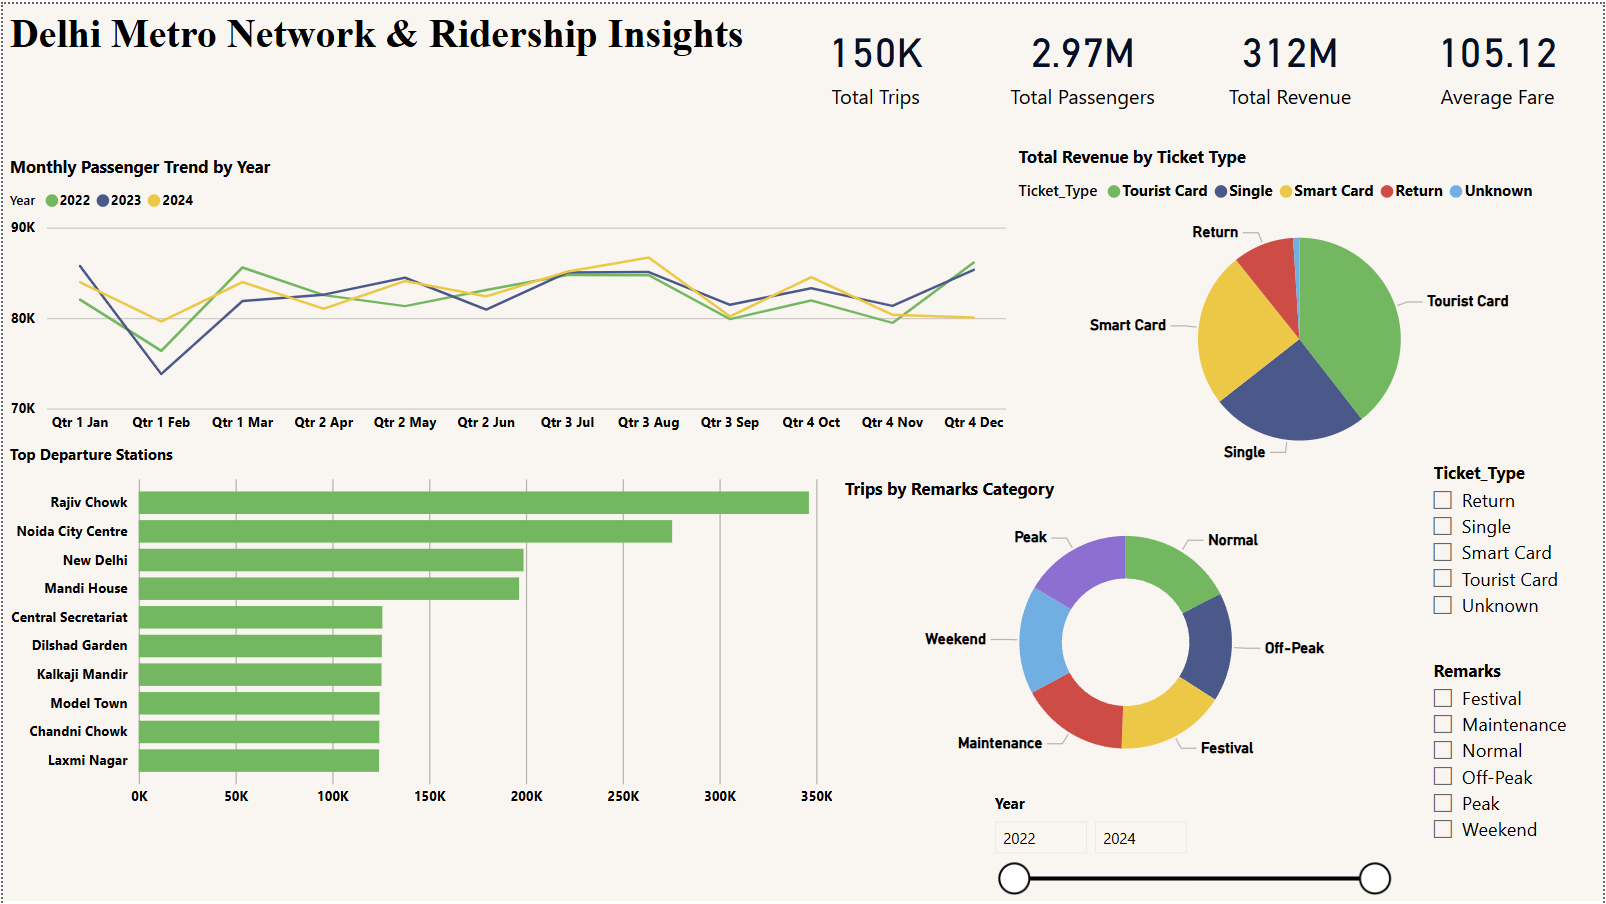

The page's visual inventory and layout, read from the dashboard file:
{"tool":"powerbi","page":{"name":"Overview Dashboard","canvas":[1280,720],"ordinal":0},"visuals":[{"type":"textbox","box":[0,0,614.7,62.8],"z":0},{"type":"card","fields":{"Values":["delhi_metro_updated.Total Trips"]},"box":[614.7,0,165.8,94.7],"z":1000},{"type":"card","fields":{"Values":["delhi_metro_updated.Total Passengers"]},"box":[780.5,0,165.8,94.7],"z":2000},{"type":"card","fields":{"Values":["delhi_metro_updated.Total Revenue"]},"box":[946.3,0,165.8,94.7],"z":3000},{"type":"card","fields":{"Values":["delhi_metro_updated.Average Fare"]},"box":[1112.1,0,165.8,94.7],"z":4000},{"type":"lineChart","title":"Monthly Passenger Trend by Year","fields":{"Y":["delhi_metro_updated.Total Passengers"],"Series":["delhi_metro_updated.Year"],"Category":["delhi_metro_updated.Date.Variation.Date Hierarchy.Quarter","delhi_metro_updated.Month_Name"]},"box":[0,120.8,806.5,230.9],"z":5000},{"type":"clusteredBarChart","title":"Top Departure Stations","fields":{"Category":["delhi_metro_updated.From_Station"],"Y":["delhi_metro_updated.Total Passengers"]},"box":[0,351.7,667.9,299.6],"z":6000},{"type":"pieChart","title":"Total Revenue by Ticket Type","fields":{"Category":["delhi_metro_updated.Ticket_Type"],"Y":["delhi_metro_updated.Total Revenue"]},"box":[806.5,112.5,459.5,265.3],"z":7000},{"type":"donutChart","title":"Trips by Remarks Category","fields":{"Category":["delhi_metro_updated.Remarks"],"Y":["delhi_metro_updated.Total Trips"]},"box":[667.9,377.8,459.5,248.7],"z":8000},{"type":"slicer","fields":{"Values":["delhi_metro_updated.Remarks"]},"box":[1131,518.7,135,155.1],"z":9000},{"type":"slicer","fields":{"Values":["delhi_metro_updated.Ticket_Type"]},"box":[1131,361.2,135,140.9],"z":10000},{"type":"slicer","fields":{"Values":["delhi_metro_updated.Year"]},"box":[780.5,626.5,337.5,93.6],"z":11000}]}

Visuals, with their boxes in screenshot pixels (x1, y1, x2, y2), scaled from the page's 1280x720 canvas onto the 1606x904 screenshot:
textbox: 0/0/771/79
card - delhi_metro_updated.Total Trips: 771/0/979/119
card - delhi_metro_updated.Total Passengers: 979/0/1187/119
card - delhi_metro_updated.Total Revenue: 1187/0/1395/119
card - delhi_metro_updated.Average Fare: 1395/0/1603/119
"Monthly Passenger Trend by Year" lineChart: 0/152/1012/442
"Top Departure Stations" clusteredBarChart: 0/442/838/818
"Total Revenue by Ticket Type" pieChart: 1012/141/1588/474
"Trips by Remarks Category" donutChart: 838/474/1415/787
slicer - delhi_metro_updated.Remarks: 1419/651/1588/846
slicer - delhi_metro_updated.Ticket_Type: 1419/454/1588/630
slicer - delhi_metro_updated.Year: 979/787/1403/903
